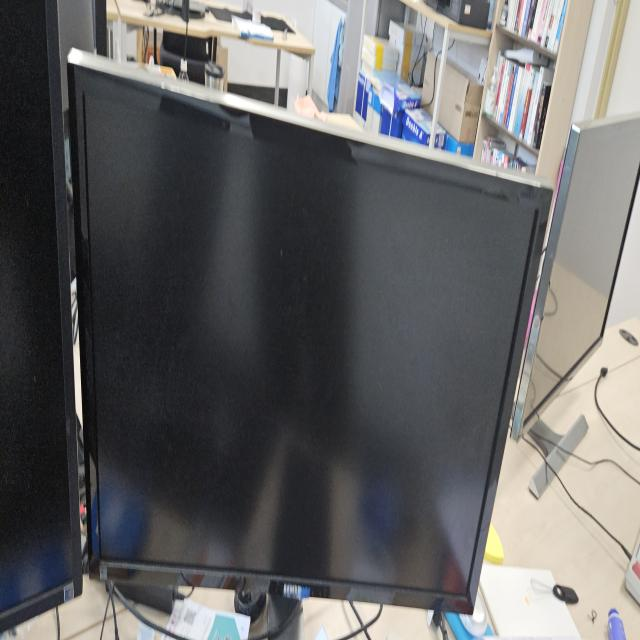Monitor: (66, 42, 554, 622)
